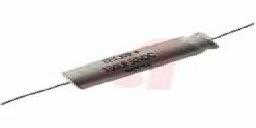Electrolytic Capacitor: (1, 18, 256, 108)
